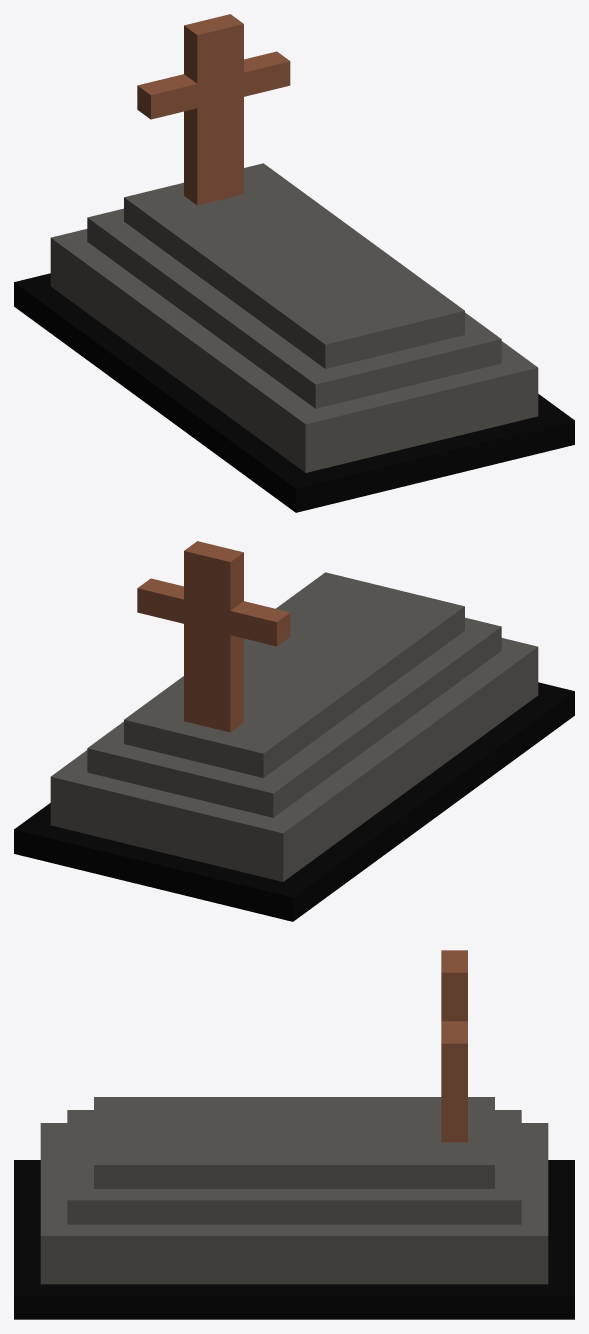
File: grave.obj
3 renders of one model, top to bottom at view 1: azimuth 30°, elevation 25°; view 2: azimuth 150°, elevation 25°; view 3: azimuth 270°, elevation 25°, orthographic.
Size of the model in its own units: 1.2 by 1.2 by 2.1.
Materials: 1 (1 with a texture image).
